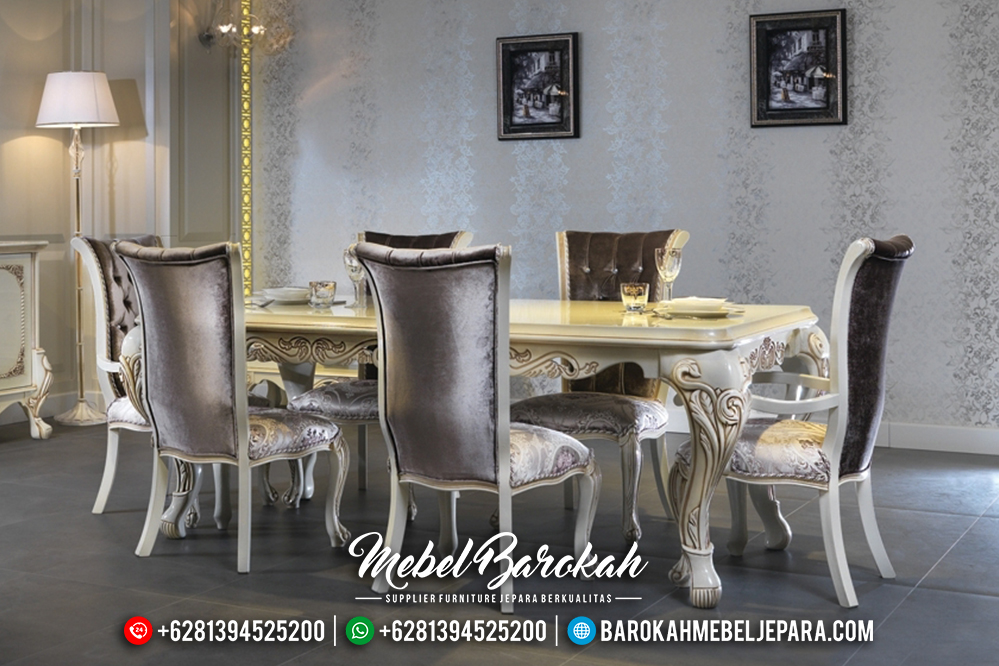Carving Table: (121, 264, 811, 593)
